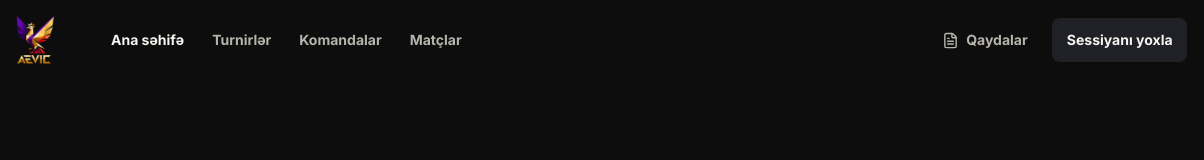
offers recovery on verification failure and shows genuine expiration after retry
Expected: the link "Daxil ol" is not shown
Click the button with aria-label "Sessiya yoxlanmadı. Yenidən yoxla" at [1120, 40], box x1=1052 y1=18 x2=1187 y2=62
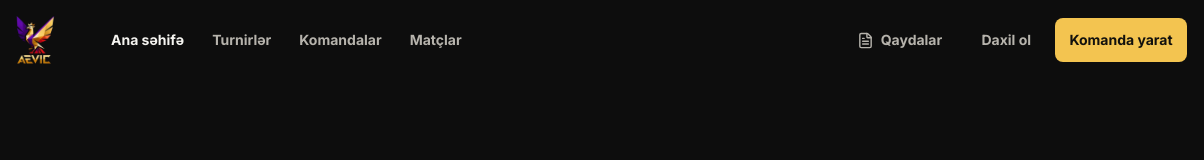
Result: the link "Daxil ol" is shown at x1=981 y1=31 x2=1031 y2=48
